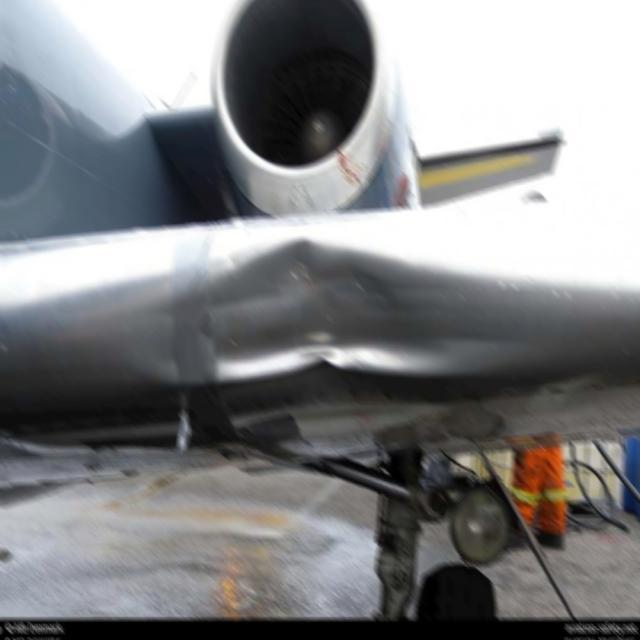dent: (155, 235, 464, 387)
